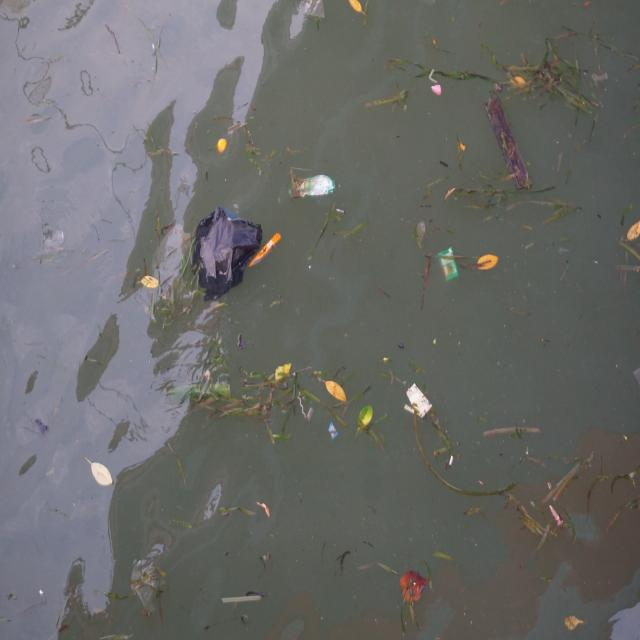Bungkus Makanan: (249, 224, 284, 276), (287, 169, 338, 203), (404, 383, 434, 421), (437, 246, 461, 287), (328, 421, 341, 444)
Kantong Plastik: (191, 203, 264, 305)
